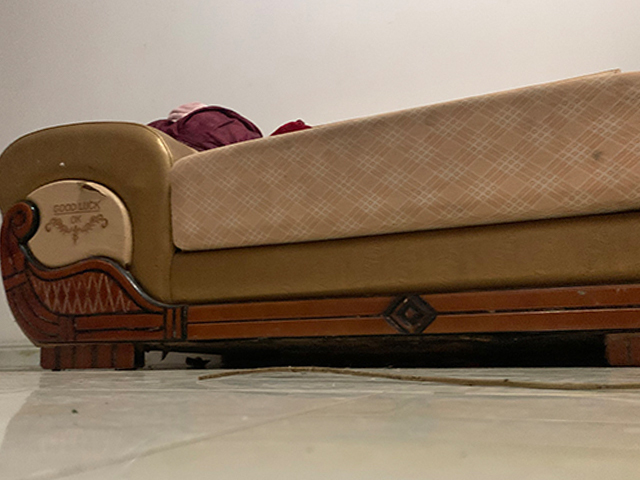sofa: (1, 67, 640, 374)
